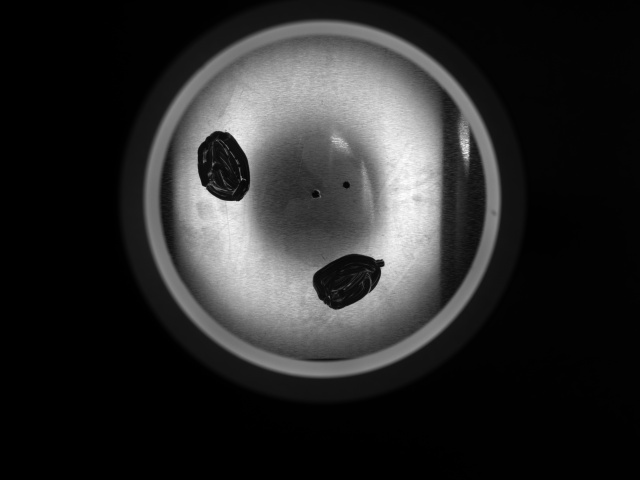zang_wu: (311, 252, 387, 311), (197, 131, 253, 203)
zhen_kong: (308, 186, 325, 203), (340, 178, 354, 192)
